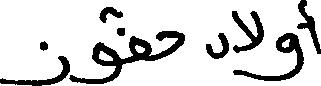X: (0, 36, 67, 85), (273, 0, 302, 85), (93, 2, 119, 85), (235, 6, 261, 84), (157, 26, 183, 64), (207, 28, 227, 63), (131, 31, 150, 67), (307, 10, 320, 58)
